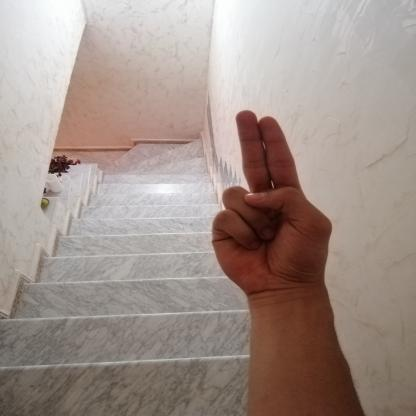TA: (196, 93, 344, 305)
